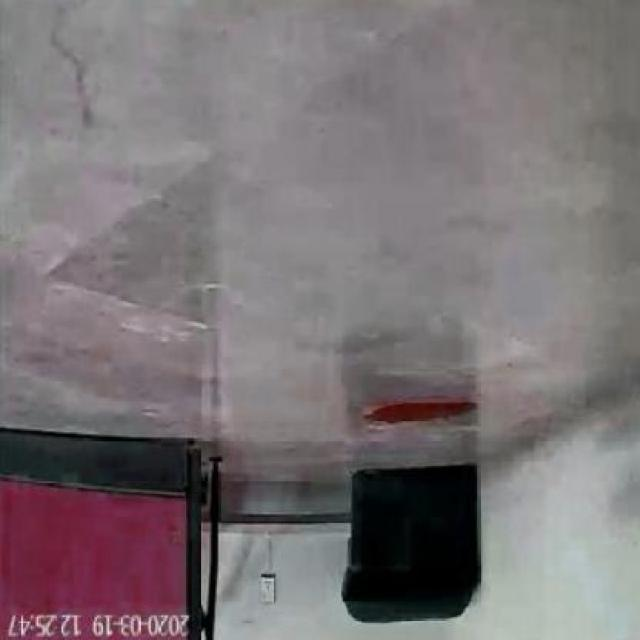spillage: (363, 395, 479, 427)
